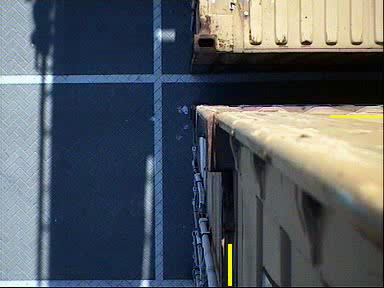groundmarker_2: (150, 77, 239, 120), (194, 205, 239, 266)
